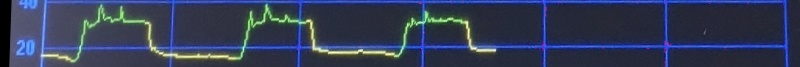hydrop_pressure: (28, 0, 509, 67)
